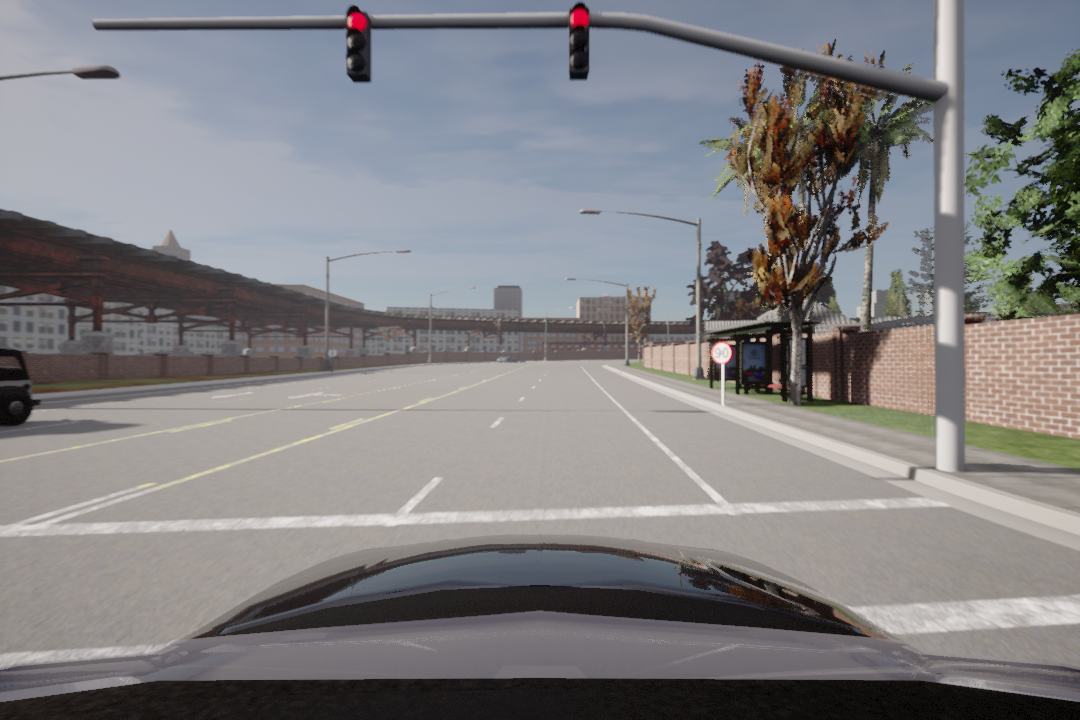TrafficLight: (340, 6, 380, 84), (565, 1, 596, 80)
TrafficSign_speed: (708, 339, 734, 364)
